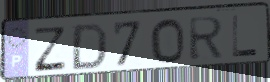7: (112, 18, 144, 69)
D: (69, 22, 110, 72)
L: (230, 14, 260, 59)
O: (148, 17, 186, 65)
R: (186, 14, 226, 62)
Z: (33, 26, 68, 73)
